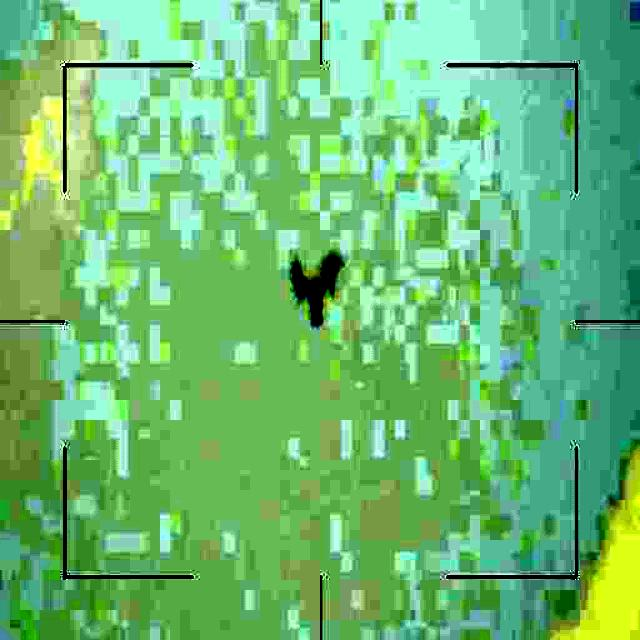bird: (284, 246, 344, 330)
